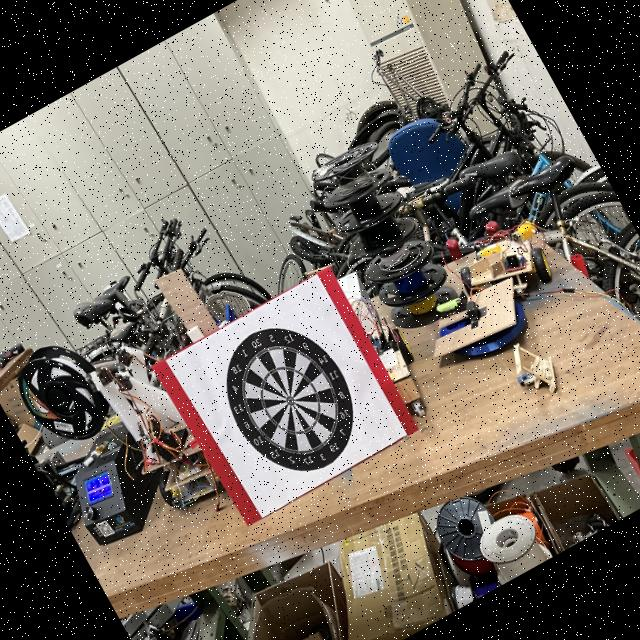archery-targets: (199, 302, 380, 496)
